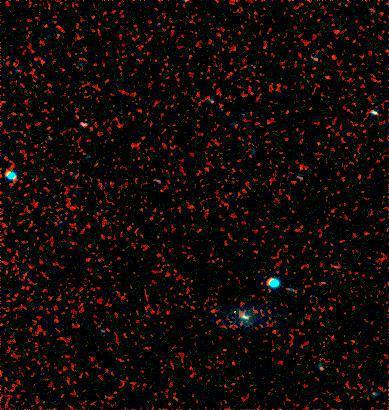star: (214, 296, 244, 326)
